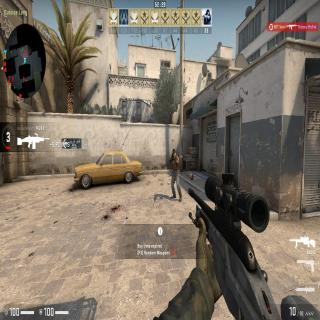T-Body: (168, 147, 182, 200)
T-Head: (172, 148, 176, 157)
